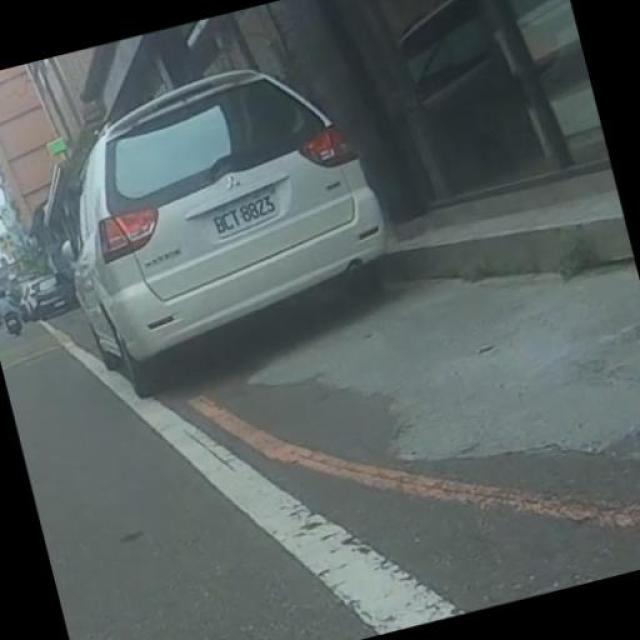Legalparking: (61, 45, 407, 482)
